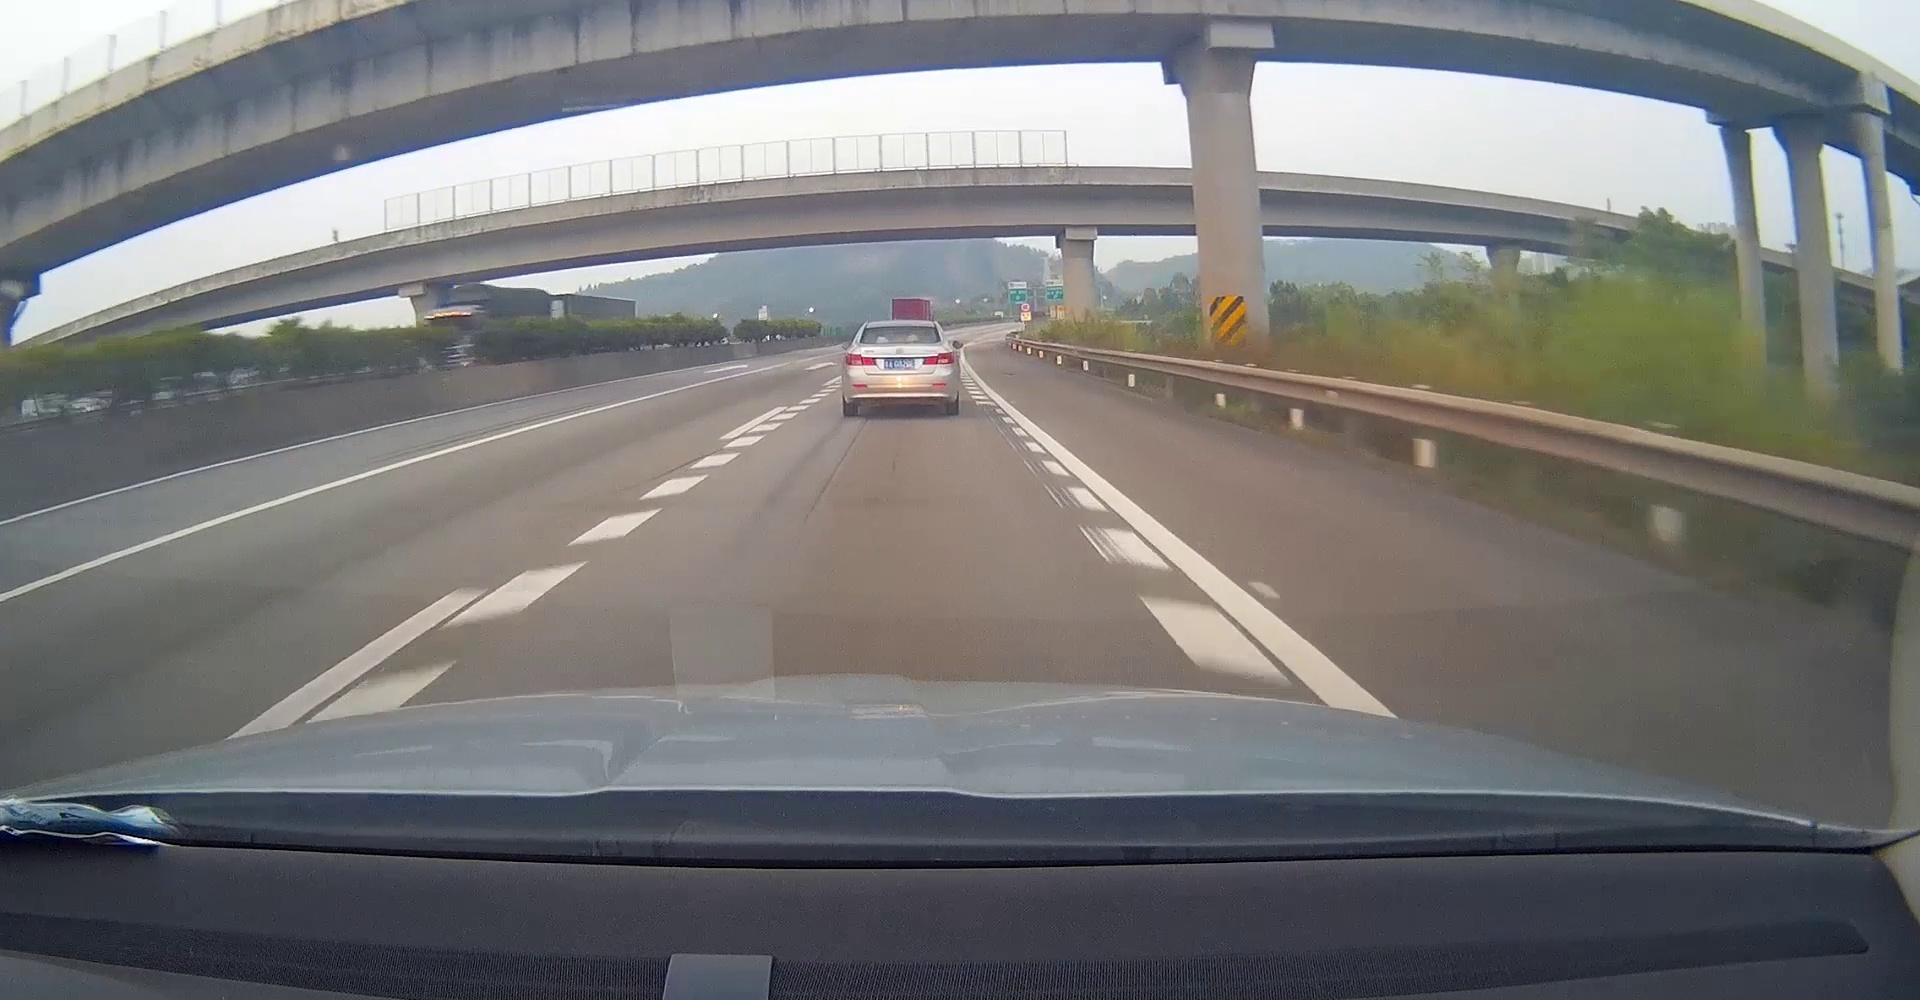L_light: (844, 353, 876, 365)
R_light: (922, 352, 955, 365)
T_light: (888, 341, 910, 344)
day-no: (841, 320, 959, 418)
